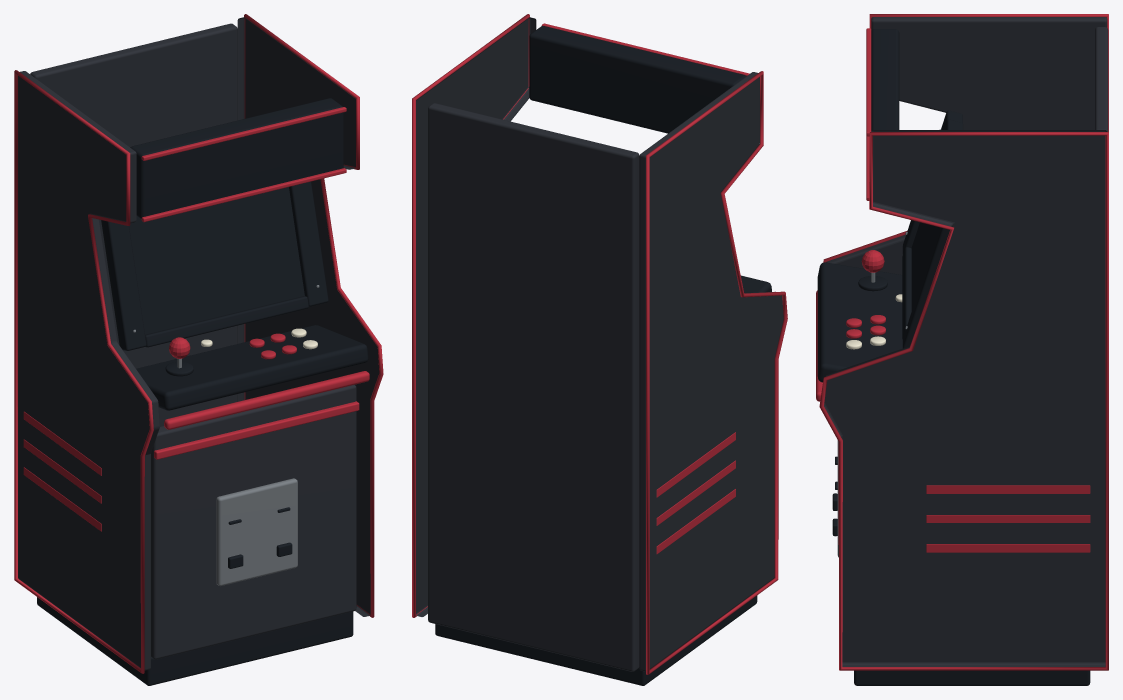
Rendered from den-arcade-rift.glb.
3 views of the same model, side by side, from view 1: azimuth 30°, elevation 25°; view 2: azimuth 150°, elevation 25°; view 3: azimuth 270°, elevation 25° (orthographic). The views are drawn at different scales.
Parts seen in each view (by area): view 1: Cabinet_satin charcoal laminate, Cabinet_recessed graphite, Cabinet_coloured T-moulding, Cabinet_brushed coin plate; view 2: Cabinet_satin charcoal laminate, Cabinet_recessed graphite, Cabinet_coloured T-moulding; view 3: Cabinet_satin charcoal laminate, Cabinet_recessed graphite, Cabinet_coloured T-moulding.
Part boxes in pixels (bbox=[...]): Cabinet_satin charcoal laminate: bbox=[18, 17, 379, 670]; Cabinet_recessed graphite: bbox=[37, 98, 368, 685]; Cabinet_coloured T-moulding: bbox=[14, 14, 383, 673]; Cabinet_brushed coin plate: bbox=[133, 285, 319, 585]; Cabinet_satin charcoal laminate: bbox=[416, 17, 783, 671]; Cabinet_recessed graphite: bbox=[435, 26, 771, 685]; Cabinet_coloured T-moulding: bbox=[412, 14, 787, 674]; Cabinet_satin charcoal laminate: bbox=[824, 17, 1108, 666]; Cabinet_recessed graphite: bbox=[817, 29, 1090, 685]; Cabinet_coloured T-moulding: bbox=[816, 14, 1108, 670].
Bounding box in the file's own units: 0.746 × 1.62 × 0.7692.
